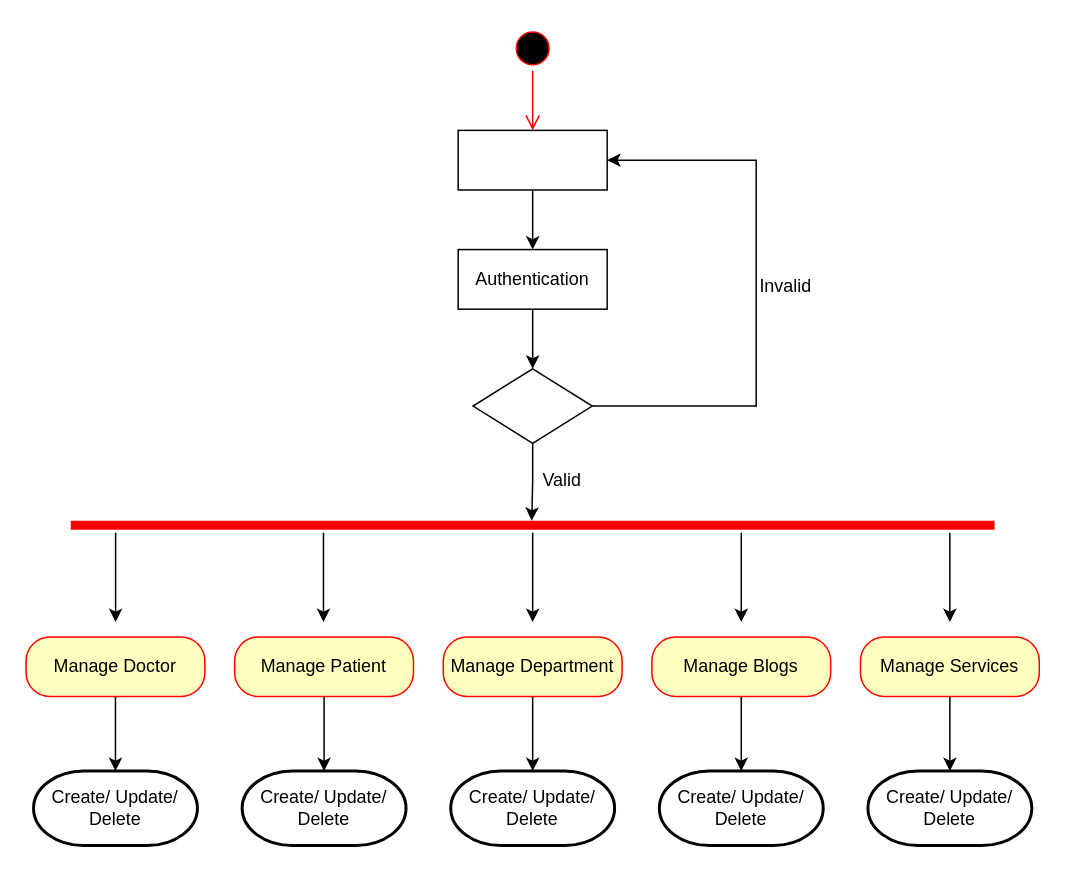
Image size: 1065x873. Some labels were removed from this diagram. Here are the shapes that lost their labels. From the top down, the centre of each, then its label:
point (532, 159): Login
point (532, 405): checks
